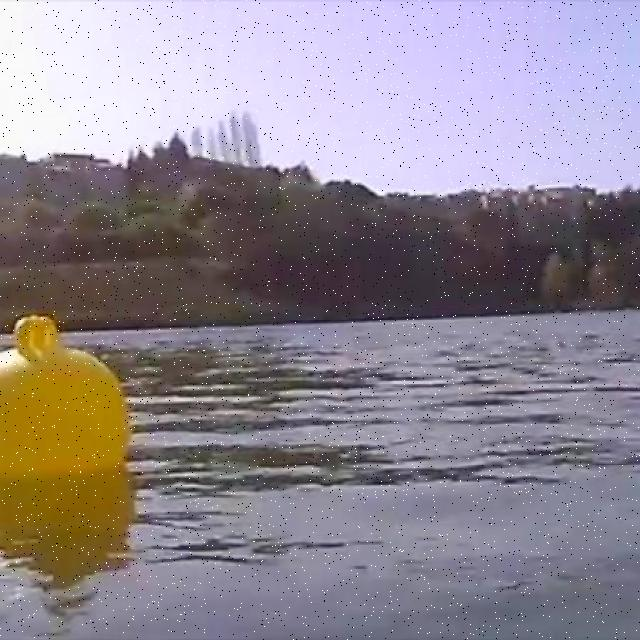buoy: (0, 316, 134, 480)
